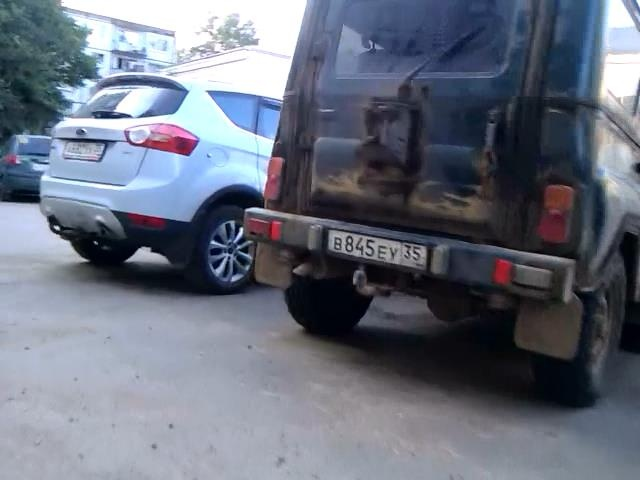car license plate: (320, 226, 428, 273), (63, 138, 105, 163), (33, 163, 50, 172)
